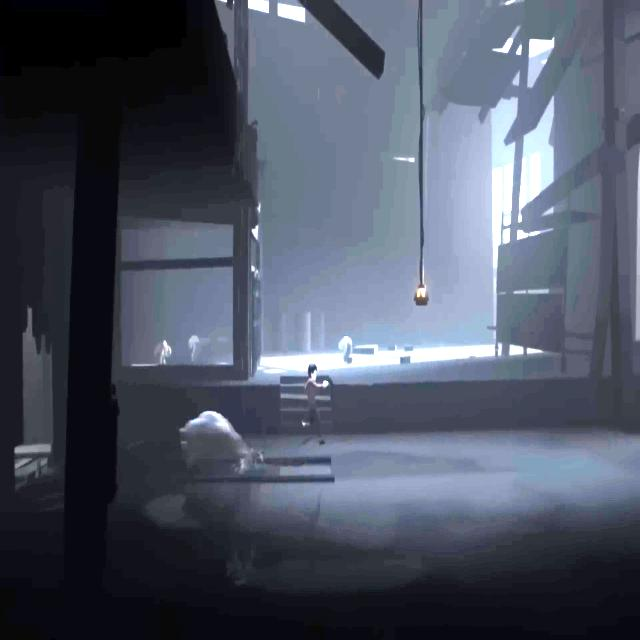boy: (302, 363, 329, 446)
interactible: (414, 288, 429, 306)
zombie: (153, 340, 172, 365), (187, 335, 202, 366), (338, 336, 353, 365)
